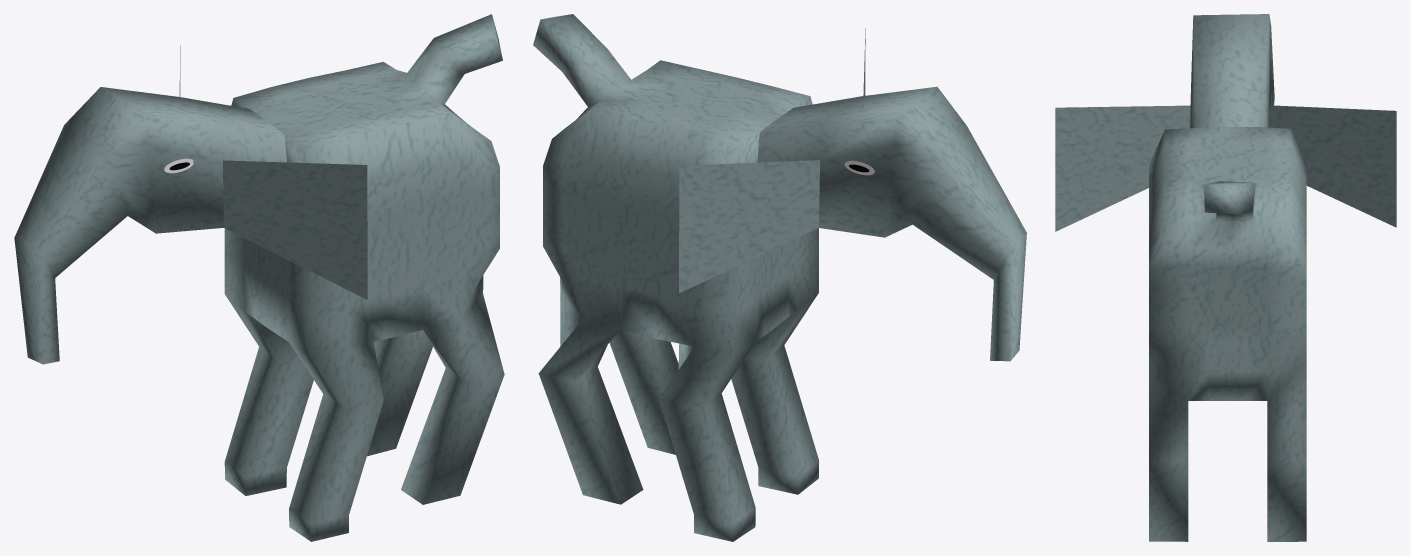
Rendered from elephant_wAnimation.glb.
3 views of the same model, side by side, from view 1: azimuth 30°, elevation 25°; view 2: azimuth 150°, elevation 25°; view 3: azimuth 270°, elevation 25° (orthographic). The views are drawn at different scales.
Parts seen in each view (by area): view 1: elephant.001; view 2: elephant.001; view 3: elephant.001.
Boxes of the visible parts, x1,y1,x2,y2 form: elephant.001: (14,14,504,541); elephant.001: (533,14,1026,541); elephant.001: (1055,14,1396,541).
Size of the model in its own units: 9.67 by 8.56 by 6.5.
2 materials, 2 textured.
